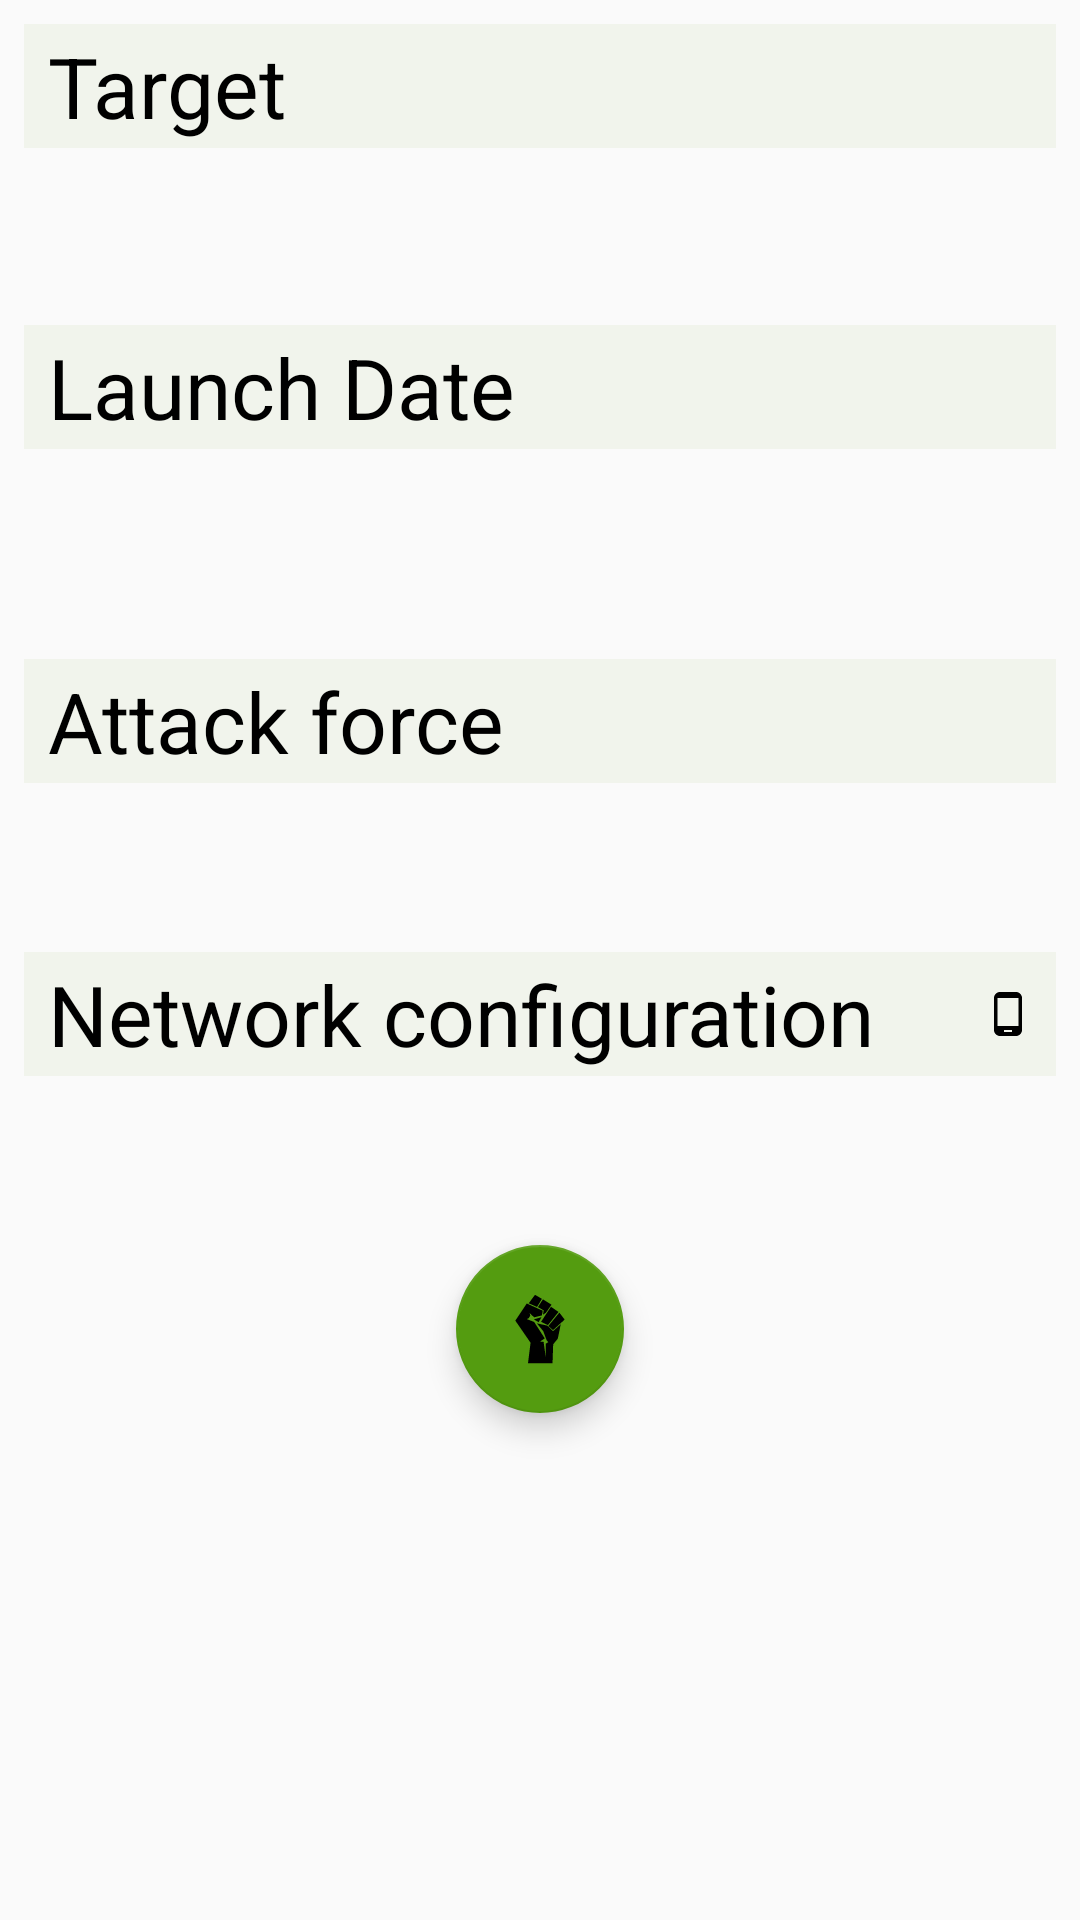

Icons on this 1080x1920 Android screen, each with the point to tap as (x,y):
fist: (540,1329)
